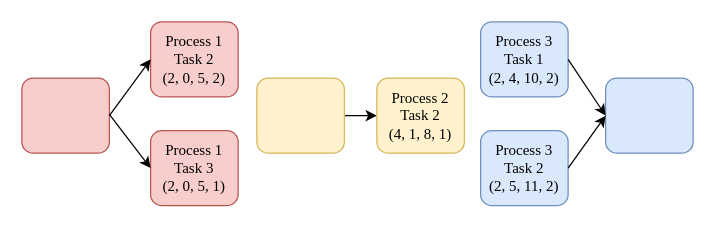
This 715x228 diagram has some shape labels left out. The centre of each missing label's shape, as x and y in pixels:
"Process 1 Task 1 (1, 0, 7, 2)" belongs at [65,115].
"Process 2 Task 1 (1, 3, 5, 3)" belongs at [300,115].
"Process 3 Task 3 (2, 1, 10, 3)" belongs at [648,115].
